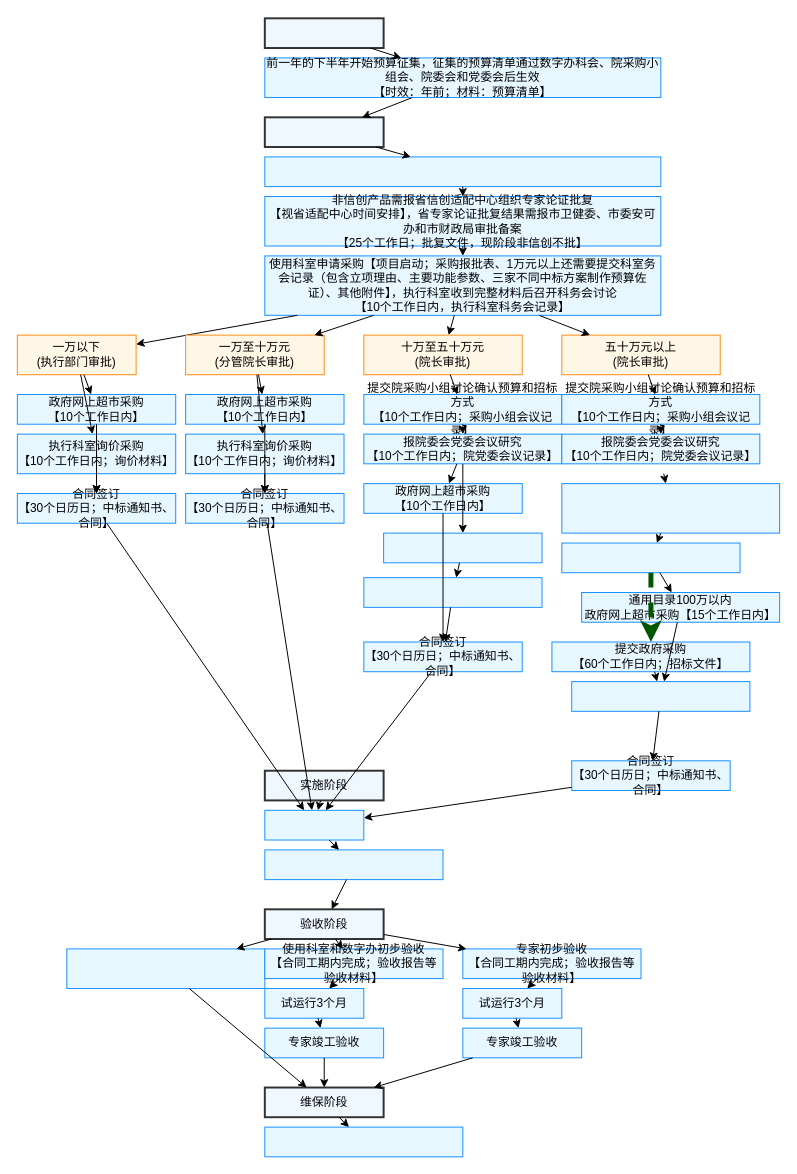
The diagram is 797 pixels wide and 1174 high, and some of its shapes have lost their labels. Each missing label, with the centre of its shape:
50-100万需要编制项目建议书【30个工作日内；项目建议书】； 100万以上需要可研编制【60个工作日内；可研报告】: (x=670, y=508)
使用科室和数字办验收 【合同工期内完成；验收报告等验收材料】: (x=165, y=968)
供货/开工: (x=314, y=824)
填写院内招标审批表 【10个工作日内】: (x=462, y=547)
报市数字办组织专家论证: (x=650, y=557)
招项目监理 【15个工作日内；询价材料】: (x=660, y=696)
提供实施方案，按实施计划执行: (x=353, y=864)
立项阶段: (x=323, y=132)
维保阶段【维修记录、新增改造需求等】: (x=363, y=1141)
网超采购或50万以上项目需要采购意向公开 【30个日历日；网站截图】: (x=462, y=171)
院招标办组织招标采购 【招标文件】: (x=452, y=592)
预算阶段: (x=323, y=33)
